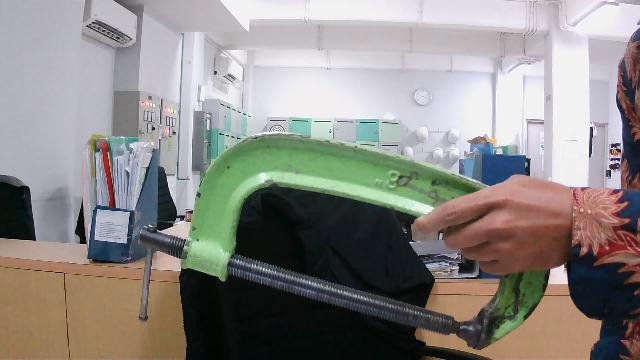tekiro_c_clamp: (137, 121, 556, 354)
